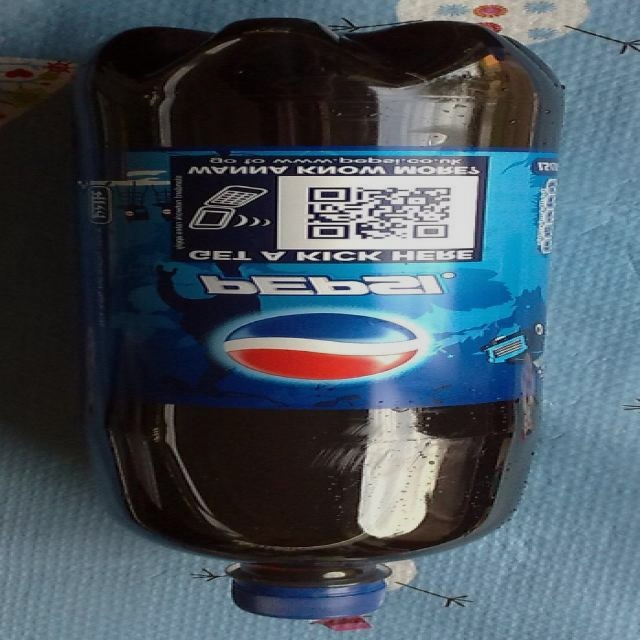qr-code: (308, 188, 449, 239)
